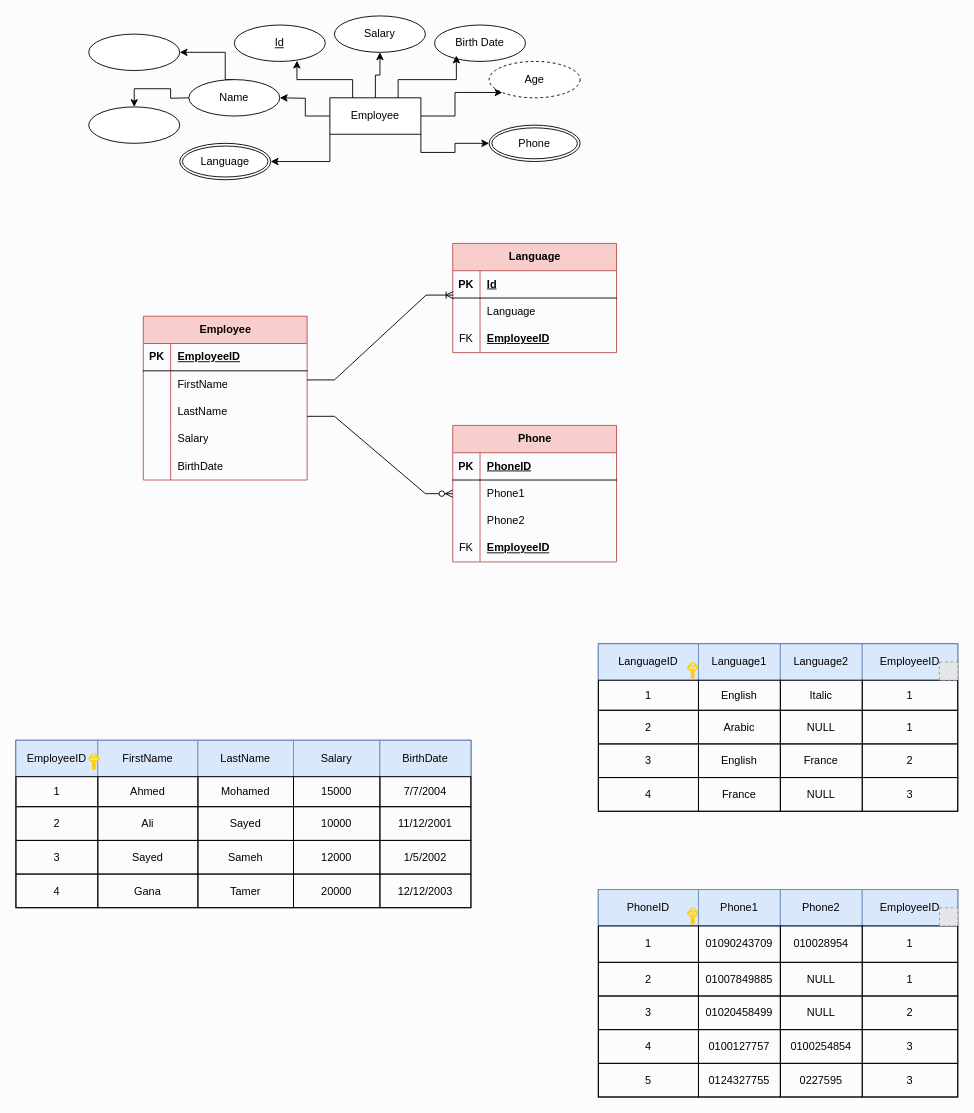
Some shapes in this 974 by 1113 pixel diagram are drawn without their labels. Grey dashed boxes stand in for pictures. Each missing label, with the centre of its shape:
"First Name" belongs at point (134, 52).
"Last Name" belongs at point (134, 124).
